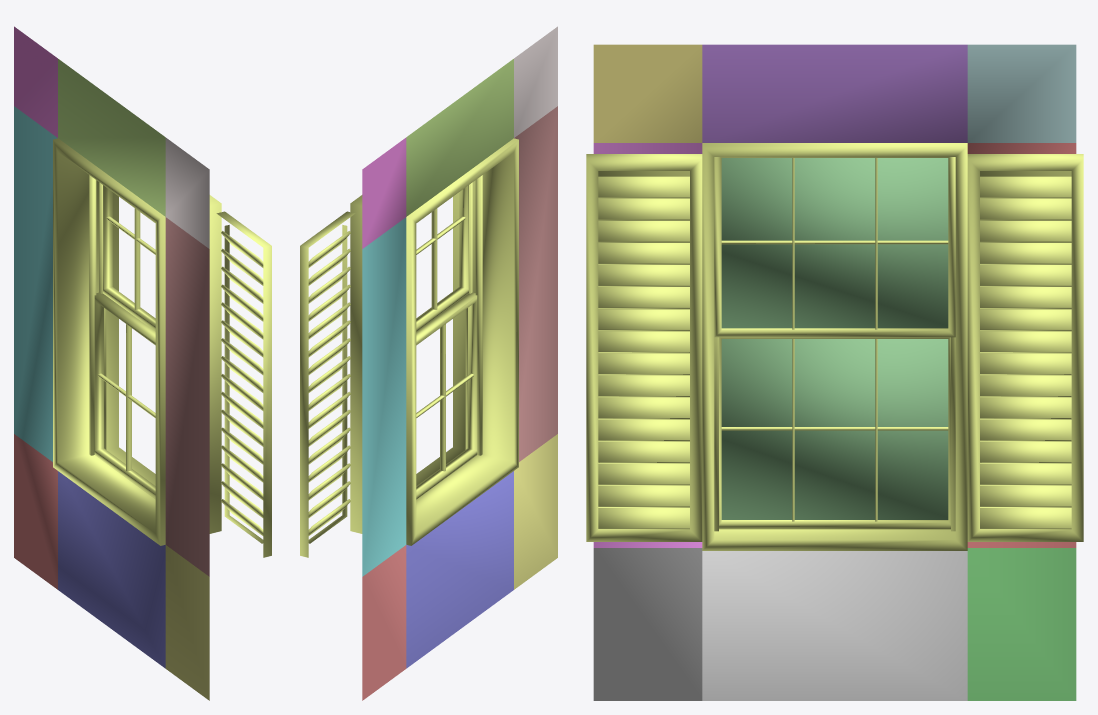
The model's file is SM_window_01_half.gltf.
The picture shows the model from 3 angles, left to right: view 1: azimuth 30°, elevation 25°; view 2: azimuth 150°, elevation 25°; view 3: azimuth 270°, elevation 25°; orthographic projection. The views are drawn at different scales.
Visible parts, largest first — view 1: SM_window_01_half; view 2: SM_window_01_half; view 3: SM_window_01_half.
Boxes of the visible parts, box(x1,y1,x2,y2) form: SM_window_01_half: box(14, 26, 271, 700); SM_window_01_half: box(300, 26, 557, 700); SM_window_01_half: box(586, 44, 1083, 700).
Size of the model in its own units: 0.403 by 3 by 2.06.
